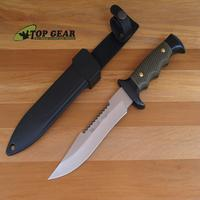knife: (44, 32, 184, 186), (2, 9, 133, 159)
